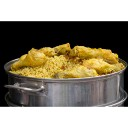briyani: (12, 45, 126, 74)
